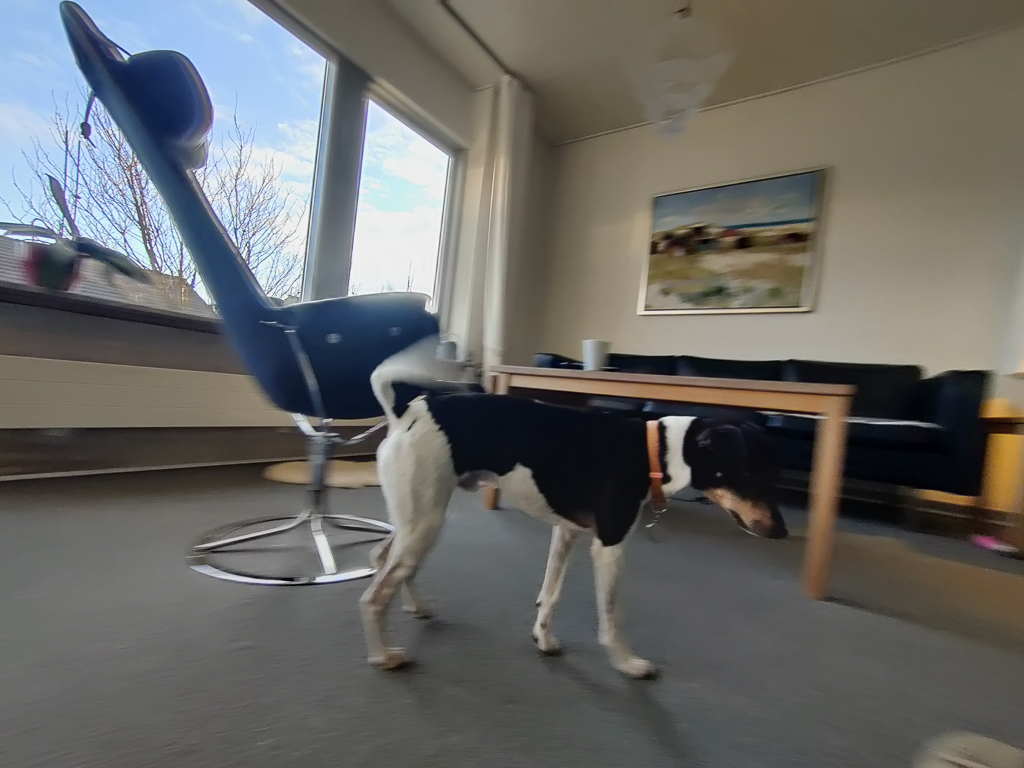Dog: (351, 324, 813, 705)
Humanoid: (885, 702, 1024, 768)
